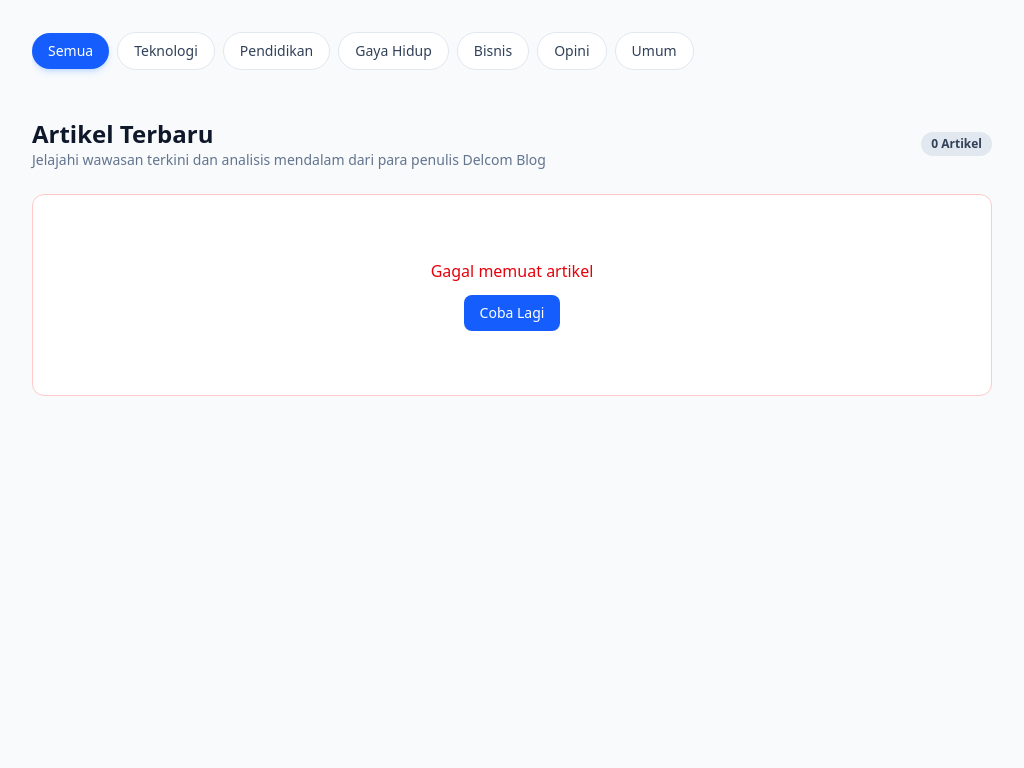
PublicArticleList › handles error state and retries on button click
Check: the text "Gagal memuat artikel" is shown, box [431,260,593,282]
Step 1. Click the button "Coba Lagi" → {"x": 512, "y": 313}, box [464,295,560,331]
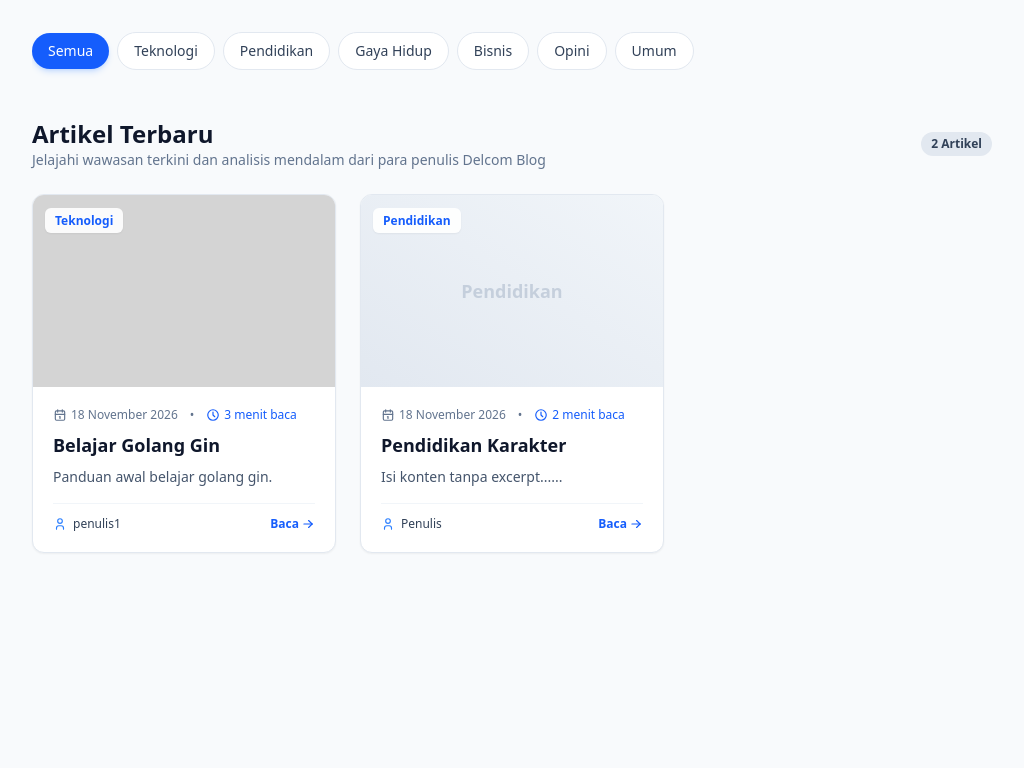
Check: the heading "Belajar Golang Gin" is shown, box [53,433,220,457]
